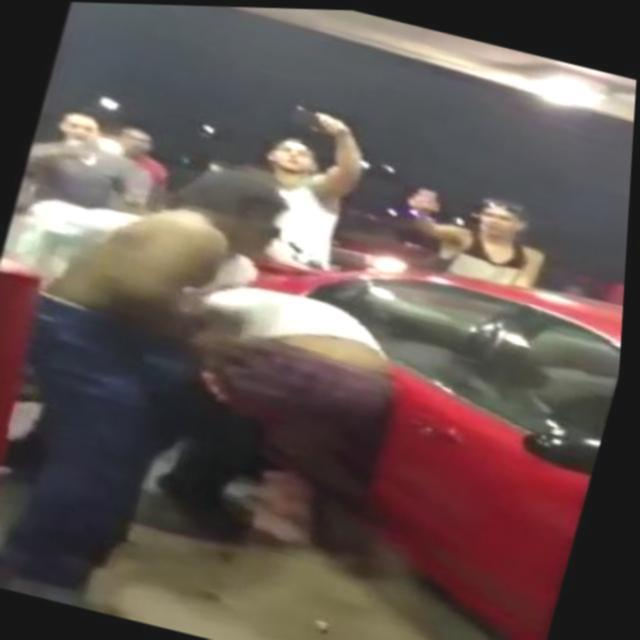fight: (0, 133, 449, 640)
